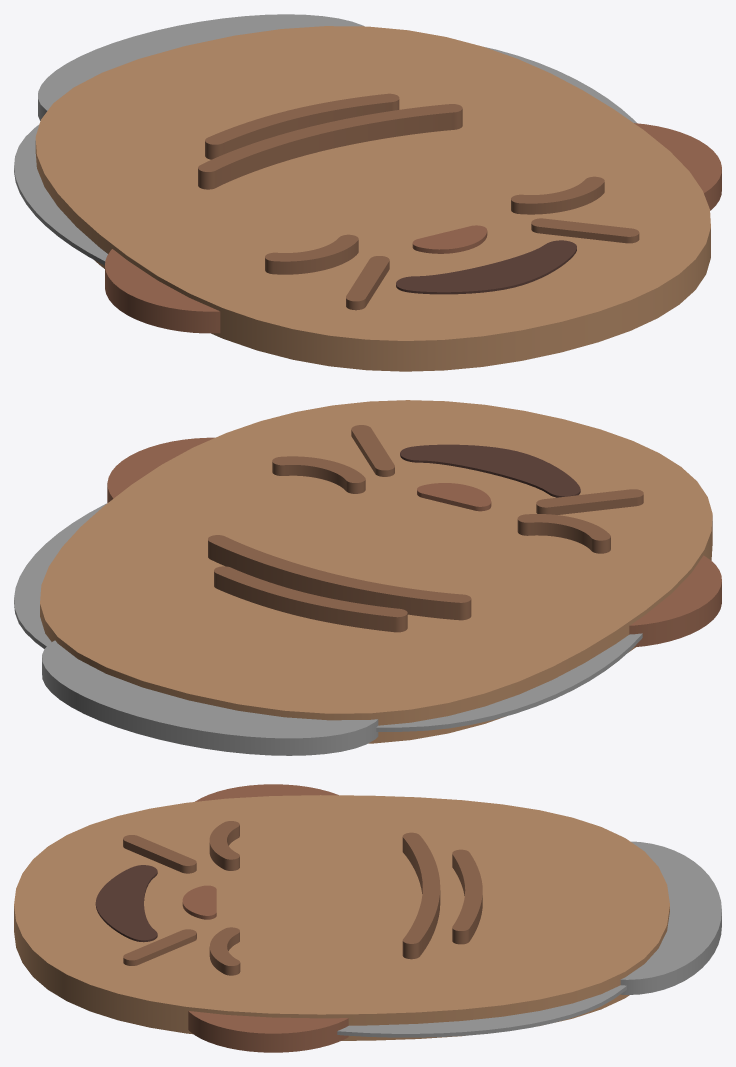
Rendered from emoji_u1f475_1f3fd.glb.
3 renders of one model, top to bottom at view 1: azimuth 30°, elevation 25°; view 2: azimuth 150°, elevation 25°; view 3: azimuth 270°, elevation 25°, orthographic. The views are drawn at different scales.
Visible parts, largest first — view 1: emoji_u1f475_1f3fd; view 2: emoji_u1f475_1f3fd; view 3: emoji_u1f475_1f3fd.
Boxes of the visible parts, bbox=[...] form: emoji_u1f475_1f3fd: bbox=[14, 14, 721, 371]; emoji_u1f475_1f3fd: bbox=[14, 400, 721, 755]; emoji_u1f475_1f3fd: bbox=[14, 784, 721, 1052].
Size of the model in its own units: 0.0281 by 0.003 by 0.0337.
